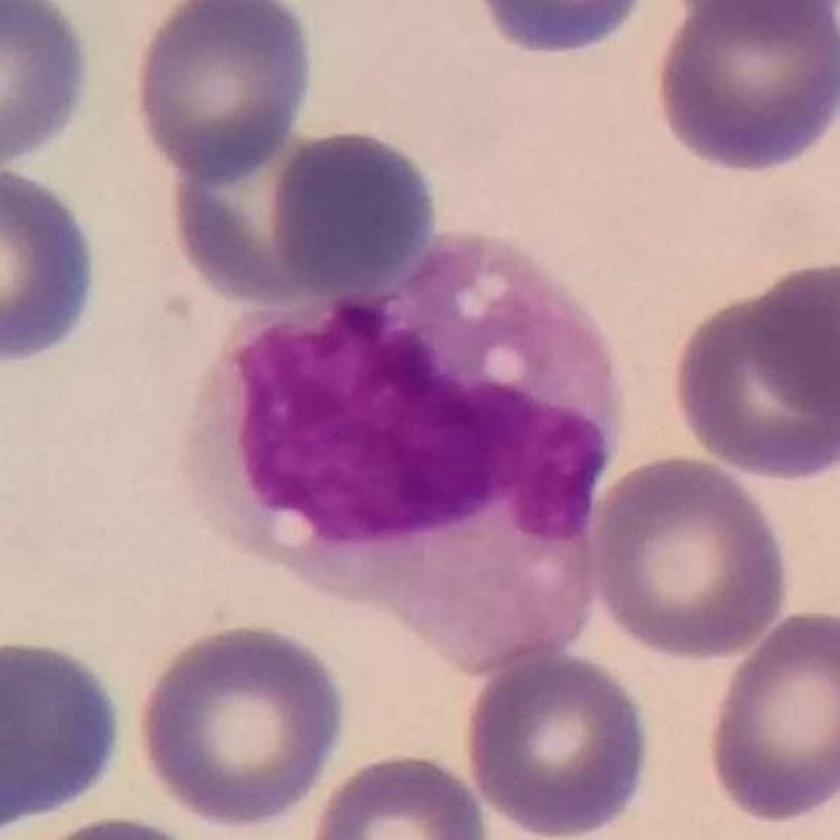monocyte: (177, 227, 622, 676)
